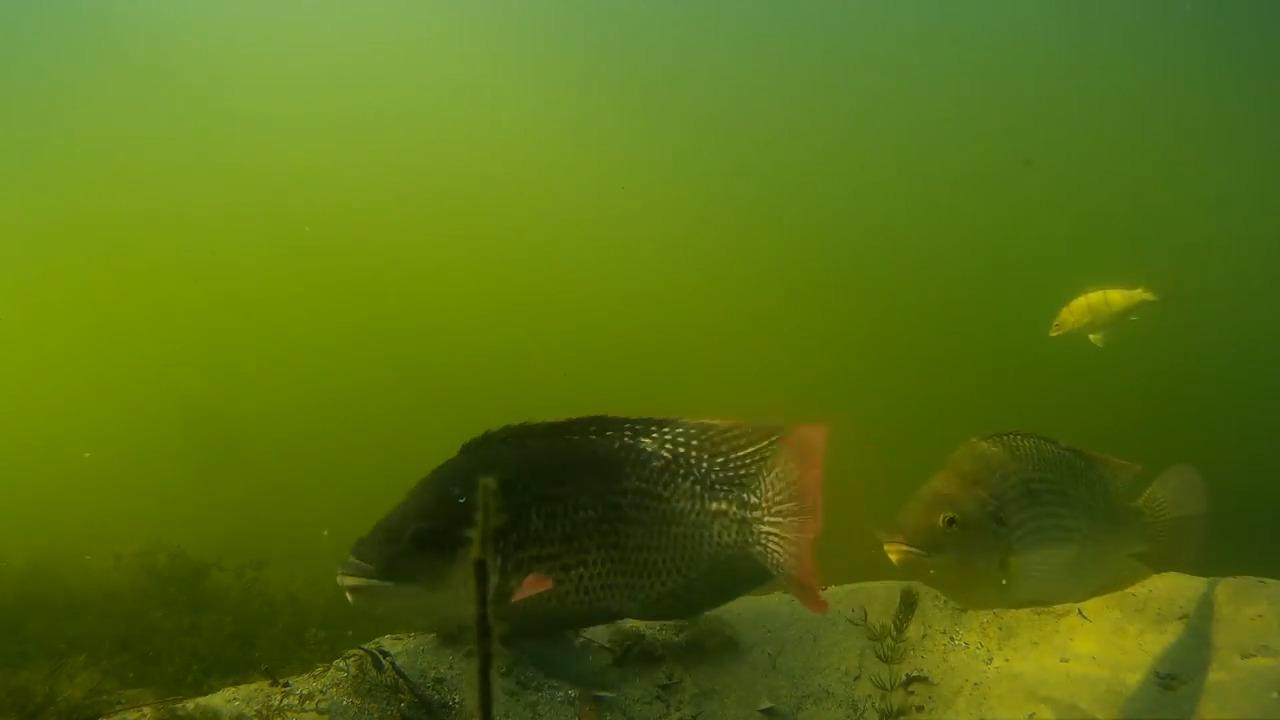Tilapia: (340, 388, 831, 646), (872, 428, 1217, 614), (1029, 270, 1186, 354)
